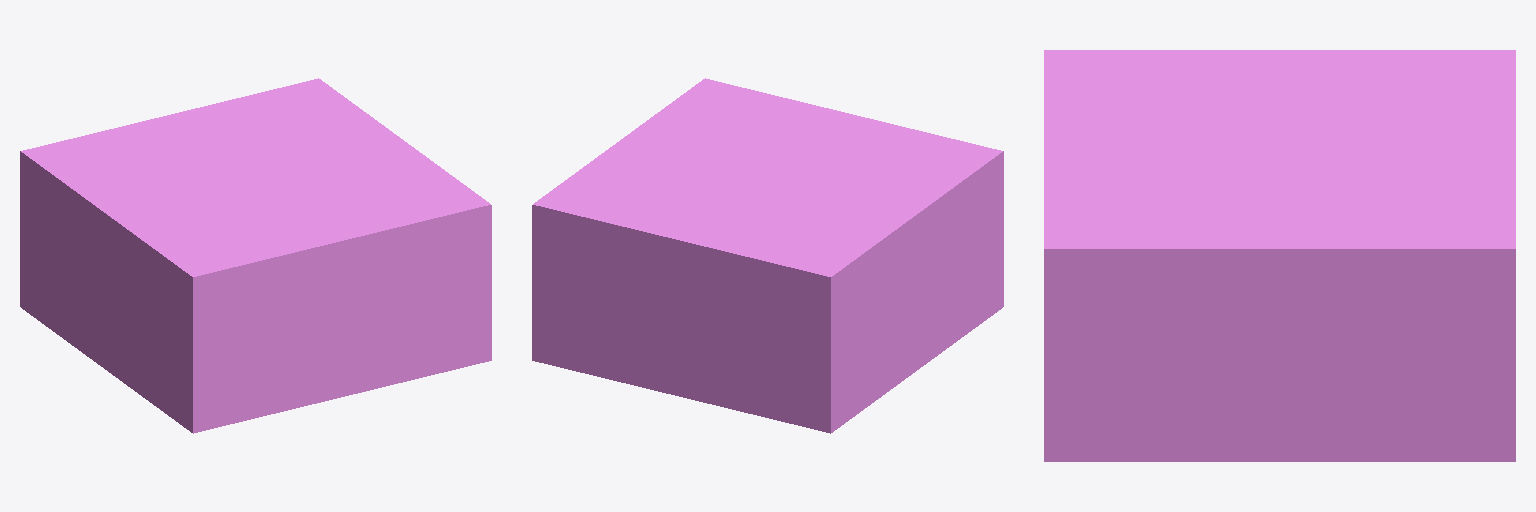
robot.urdf — ball:
<?xml version="0.0" ?>
<robot name="ball">
    <link name="wall">
        <contact>
            <lateral_friction value="1"/>
        </contact>

        <inertial>
            <origin xyz="0 0 0" rpy="0 0 0"/>
            <mass value="0.0"/>
            <inertia ixx="0"  ixy="0"  ixz="0" iyy="0" iyz="0" izz="0" />
        </inertial>

        <visual>
            <origin xyz="0 0 0" rpy="0 0 0" />
            <geometry>
                <box size="2.0 2.0 1.0" />
            </geometry>
            <material name="Orange">
                <color rgba="1.0 0.65 1.0 1.0"/>
            </material>
        </visual>

        <collision>
            <origin xyz="0 0 0" rpy="0 0 0"/>
            <geometry>
                <box size="2.0 2.0 1.0" />
            </geometry>
        </collision>
    </link>
</robot>

--- Facts derived from the render (not from the file) ---
Views: 3 orthographic renders of the robot side by side, from view 1: azimuth 30°, elevation 25°; view 2: azimuth 150°, elevation 25°; view 3: azimuth 270°, elevation 25°.
Model ball with 1 links and 0 joints (none), rooted at wall, posed all joints at 0.
Visible links, largest first — view 1: wall; view 2: wall; view 3: wall.
Boxes of the visible links, <box> form: wall: <box>20,78,491,433</box>; wall: <box>532,78,1003,433</box>; wall: <box>1044,50,1515,461</box>.
Bounding box of the posed robot: 2 × 2 × 1 m (x, y, z).
Geometry: primitives only (box / cylinder / sphere), no mesh files.